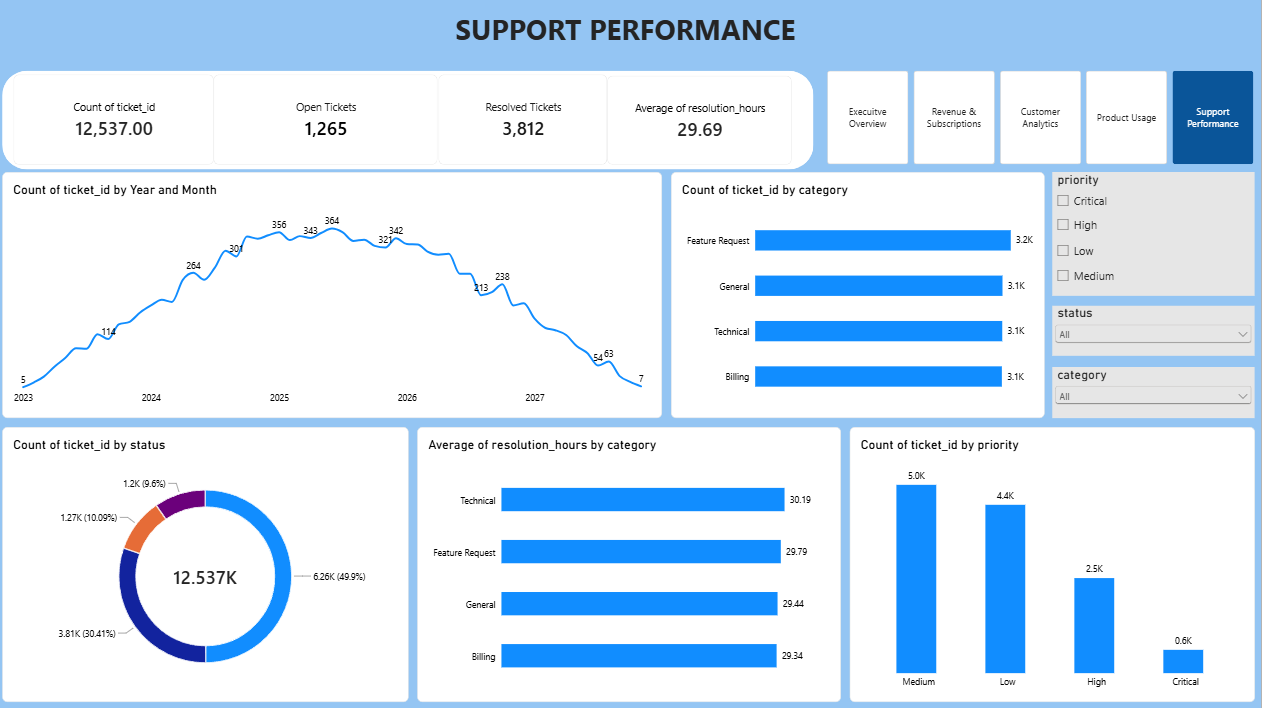

What the dashboard file says about the page in this screenshot:
{"tool":"powerbi","page":{"name":"Support Performance","canvas":[1920,1080],"ordinal":4},"visuals":[{"type":"group","id":"g1","title":"Group 1","box":[9.5,112,1231.6,149.9],"z":0},{"type":"shape","box":[9.5,112,1231.6,149.9],"z":0,"group":"g1"},{"type":"textbox","box":[669.9,0,571.2,106.3],"z":1000},{"type":"pageNavigator","box":[1261.9,112,649,142.3],"z":2000},{"type":"cardVisual","fields":{"Data":["Count(flowstack_analytics support_tickets.ticket_id)"]},"box":[25.9,118.4,304.2,137],"z":3000,"group":"g1"},{"type":"lineChart","fields":{"Y":["CountNonNull(flowstack_analytics support_tickets.ticket_id)"],"Category":["flowstack_analytics support_tickets.ticket_created_date.Variation.Date Hierarchy.Year","flowstack_analytics support_tickets.ticket_created_date.Variation.Date Hierarchy.Month"]},"box":[9.5,265.7,1001.9,373.8],"z":3000},{"type":"barChart","fields":{"Category":["flowstack_analytics support_tickets.category"],"Y":["CountNonNull(flowstack_analytics support_tickets.ticket_id)"]},"box":[1024.7,265.7,567.4,373.8],"z":4000},{"type":"columnChart","fields":{"Category":["flowstack_analytics support_tickets.priority"],"Y":["CountNonNull(flowstack_analytics support_tickets.ticket_id)"]},"box":[1296.1,652.8,614.8,417.5],"z":5000},{"type":"donutChart","fields":{"Y":["CountNonNull(flowstack_analytics support_tickets.ticket_id)"],"Category":["flowstack_analytics support_tickets.status"]},"box":[9.5,652.8,616.7,417.5],"z":6000},{"type":"barChart","fields":{"Y":["Avg(flowstack_analytics support_tickets.resolution_hours)"],"Category":["flowstack_analytics support_tickets.category"]},"box":[639.5,652.8,643.3,417.5],"z":7000},{"type":"slicer","fields":{"Values":["flowstack_analytics support_tickets.priority"]},"box":[1603.5,265.7,307.4,187.9],"z":8001},{"type":"slicer","fields":{"Values":["flowstack_analytics support_tickets.category"]},"box":[1603.5,561.7,307.4,77.8],"z":8002},{"type":"slicer","fields":{"Values":["flowstack_analytics support_tickets.status"]},"box":[1603.5,468.7,307.4,75.9],"z":8003},{"type":"cardVisual","fields":{"Data":["flowstack_analytics support_tickets.Open Tickets"]},"box":[330.1,118.4,340.7,137],"z":12000,"group":"g1"},{"type":"cardVisual","fields":{"Data":["flowstack_analytics support_tickets.Resolved Tickets"]},"box":[670.8,118.4,256.9,137],"z":13000,"group":"g1"},{"type":"cardVisual","fields":{"Data":["Avg(flowstack_analytics support_tickets.resolution_hours)"]},"box":[927.7,120.1,280.6,135.4],"z":14000,"group":"g1"}]}

Visuals, with their boxes in screenshot pixels (x1, y1, x2, y2), scaled from the page's 1920x1080 canvas onto the 1266x708 screenshot:
"Group 1" group: {"left": 6, "top": 73, "right": 818, "bottom": 172}
shape: {"left": 6, "top": 73, "right": 818, "bottom": 172}
textbox: {"left": 442, "top": 0, "right": 818, "bottom": 70}
pageNavigator: {"left": 832, "top": 73, "right": 1260, "bottom": 167}
cardVisual - Count(flowstack_analytics support_tickets.ticket_id): {"left": 17, "top": 78, "right": 218, "bottom": 167}
lineChart - CountNonNull(flowstack_analytics support_tickets.ticket_id) x flowstack_analytics support_tickets.ticket_created_date.Variation.Date Hierarchy.Year: {"left": 6, "top": 174, "right": 667, "bottom": 419}
barChart - flowstack_analytics support_tickets.category x CountNonNull(flowstack_analytics support_tickets.ticket_id): {"left": 676, "top": 174, "right": 1050, "bottom": 419}
columnChart - flowstack_analytics support_tickets.priority x CountNonNull(flowstack_analytics support_tickets.ticket_id): {"left": 855, "top": 428, "right": 1260, "bottom": 702}
donutChart - CountNonNull(flowstack_analytics support_tickets.ticket_id) x flowstack_analytics support_tickets.status: {"left": 6, "top": 428, "right": 413, "bottom": 702}
barChart - Avg(flowstack_analytics support_tickets.resolution_hours) x flowstack_analytics support_tickets.category: {"left": 422, "top": 428, "right": 846, "bottom": 702}
slicer - flowstack_analytics support_tickets.priority: {"left": 1057, "top": 174, "right": 1260, "bottom": 297}
slicer - flowstack_analytics support_tickets.category: {"left": 1057, "top": 368, "right": 1260, "bottom": 419}
slicer - flowstack_analytics support_tickets.status: {"left": 1057, "top": 307, "right": 1260, "bottom": 357}
cardVisual - flowstack_analytics support_tickets.Open Tickets: {"left": 218, "top": 78, "right": 442, "bottom": 167}
cardVisual - flowstack_analytics support_tickets.Resolved Tickets: {"left": 442, "top": 78, "right": 612, "bottom": 167}
cardVisual - Avg(flowstack_analytics support_tickets.resolution_hours): {"left": 612, "top": 79, "right": 797, "bottom": 167}
